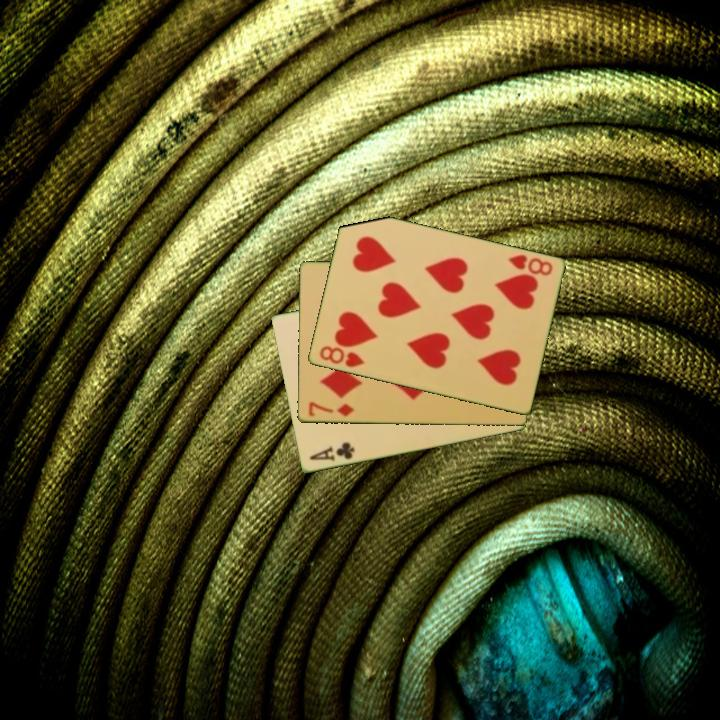7d: (305, 399, 356, 419)
8h: (504, 251, 555, 279), (316, 343, 367, 370)
Ac: (306, 439, 357, 464)
